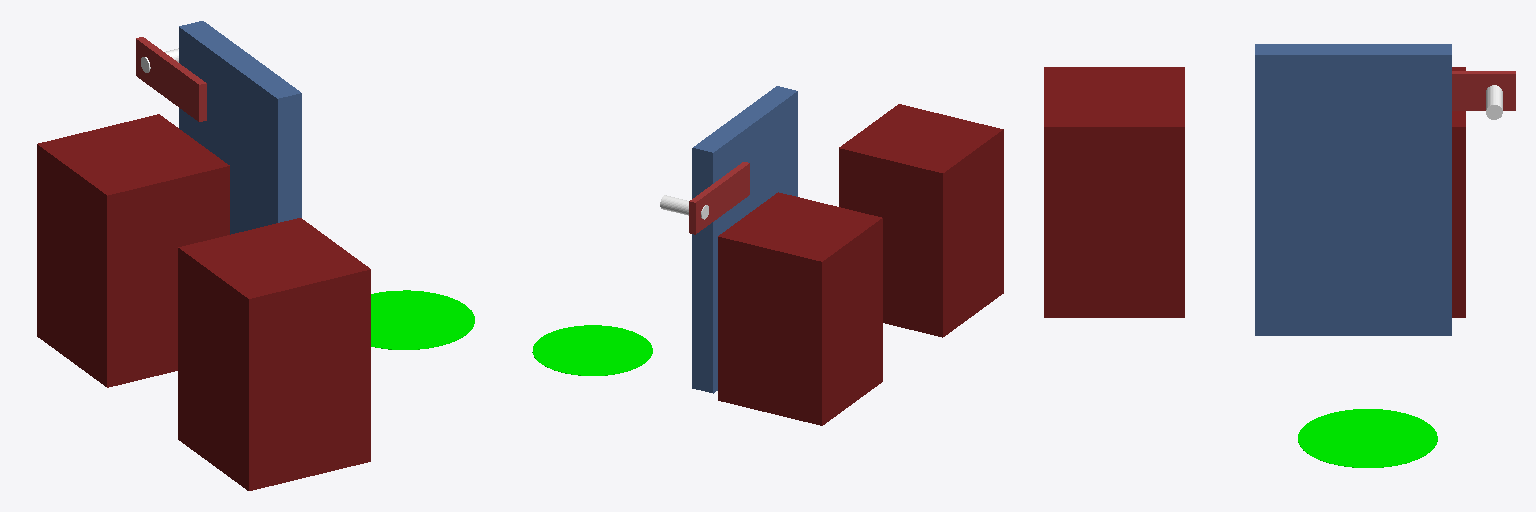
The robot description file, URDF, robot "room":
<robot name="room">
    <link name="base_link"/>

    <link name="room">
      <visual>
        <geometry>
          <mesh filename="[local-path]/rb_ws/robowflex/robowflex_dart/include/io/envs/room/meshes/room.dae" scale=" 0.4 0.4 0.3"/>
        </geometry>
        <origin rpy="0 0 0" xyz="0 0 0"/>
      <material name="">
        <color rgba="0.94901960784 0.94901960784 0.94901960784 1"/>
      </material>
      </visual>

      <collision>
        <geometry>
          <mesh filename="[local-path]/rb_ws/robowflex/robowflex_dart/include/io/envs/room/meshes/room.dae" scale=" 0.4 0.4 0.3"/>
        </geometry>
        <origin rpy="0 0 0" xyz="0 0 0"/>       
       </collision>
    </link>


        <link name="shelf">
      <visual>
        <geometry>
          <mesh filename="[local-path]/rb_ws/robowflex/robowflex_dart/include/io/envs/room/meshes/shelf.dae" scale="0.042 0.05 0.04"/>
        </geometry>
        <origin rpy="0 0 0" xyz="0 0 0"/>
      
      <material name="">
        <color rgba="0.729411 0.549019 0.388235 1"/>
      </material>

      </visual>
      <collision>
        <geometry>
          <mesh filename="[local-path]/rb_ws/robowflex/robowflex_dart/include/io/envs/room/meshes/shelf.dae" scale="0.042 0.05 0.04"/>
        </geometry>
        <origin rpy="0 0 0" xyz="0 0 0"/>       
       </collision>
    </link>


    <link name="desk">
      <visual>
        <geometry>
          <mesh filename="[local-path]/rb_ws/robowflex/robowflex_dart/include/io/envs/room/meshes/desk2.dae" scale="0.01 0.01 0.020"/>
        </geometry>
        <origin rpy="0 0 0" xyz="0 0 0"/>
      
    <material name="">
        <color rgba="0.729411 0.549019 0.388235 1"/>
      </material>

      </visual>
      <collision>
        <geometry>
          <mesh filename="[local-path]/rb_ws/robowflex/robowflex_dart/include/io/envs/room/meshes/desk2.dae" scale="0.01 0.01 0.020"/>
        </geometry>
        <origin rpy="0 0 0" xyz="0 0 0"/>       
       </collision>
    </link>



    <link name="sofa">
      <visual>
        <geometry>
          <mesh filename="[local-path]/rb_ws/robowflex/robowflex_dart/include/io/envs/room/meshes/sofa.dae" scale="0.7 0.7 1"/>
        </geometry>
        <origin rpy="0 0 0" xyz="0 0 0"/>
      
      <material name="">
        <color rgba="0.70196 0.8 1 1"/>
      </material>

      </visual>
      <collision>
        <geometry>
          <mesh filename="[local-path]/rb_ws/robowflex/robowflex_dart/include/io/envs/room/meshes/sofa.dae" scale="0.7 0.7 1"/>
        </geometry>
        <origin rpy="0 0 0" xyz="0 0 0"/>       
       </collision>
    </link>

    <link name="link_0_joint_0">
      <visual>
        <geometry>
          <box size="0.5 0.5 0.75"/>
        </geometry>
        <origin rpy="0 0 0" xyz="0 0 0"/>
          <material name="">
          <color rgba="0.541176 0.156862 0.156862 1.0"/>
      </material>
      </visual>
      <collision>
        <geometry>
          <box size="0.5 0.5 0.75"/>
        </geometry>
        <origin rpy="0 0 0" xyz="0 0 0"/>      
       </collision>
    </link>


    <link name="link_1_joint_0">
      <visual>
        <geometry>
          <box size="0.5 0.5 0.75"/>
        </geometry>
        <origin rpy="0 0 0" xyz="0 0 0"/>
       <material name="">
          <color rgba="0.541176 0.156862 0.156862 1.0"/>
      </material>
      </visual>
      <collision>
        <geometry>
          <box size="0.5 0.5 0.75"/>
        </geometry>
        <origin rpy="0 0 0" xyz="0 0 0"/>      
       </collision>
    </link>

     <link name="link_2_joint_0">
      <visual>
        <geometry>
          <box size="0.1 0.7 1.1"/>
        </geometry>
        <origin rpy="0 0 0" xyz="0.0 0.35 0"/>
        <material name="">
          <color rgba="0.349019 0.470588 0.650980 1.0"/>
      </material>
      </visual>
      <collision>
        <geometry>
          <box size="0.1 0.7 1.1"/>
        </geometry>
        <origin rpy="0 0 0" xyz="0.0 0.35 0"/>     
       </collision>
    </link>


     <link name="lock_part">
      <visual>
        <geometry>
          <cylinder radius="0.03" length="0.2"/>
        </geometry>
             <material name="">
          <color rgba="1 1 1 1.0"/>
      </material>
      </visual>
    </link>


     <link name="link_3_joint_0">
      <visual>
        <geometry>
          <box size="0.03 0.45 0.146"/>
        </geometry>
      <origin rpy="0 0 0" xyz="0 -0.15 0"/>
             <material name="">
          <color rgba="0.6901 0.2509 0.2509 1.0"/>
      </material>
      </visual>
      <collision>       
        <geometry>
          <box size="0.03 0.45 0.146"/>
        </geometry>
      <origin rpy="0 0 0" xyz="0 -0.15 0"/>
       </collision>
    </link>


<link name="cube1_y_axis"/>
<link name="cube2_y_axis"/>


  <joint name="link_0_joint_0" type="prismatic">
      <origin rpy="0 0 0" xyz="0.95 0.1 0.375"/>
      <parent link="base_link"/>
      <child link="cube1_y_axis"/>
      <axis xyz="0 1 0"/>
      <limit lower="-1.10" upper="0.96" effort="0.05" velocity="1.57"/>
  </joint>


  <joint name="link_0_joint_1" type="prismatic">
      <origin rpy="0 0 0" xyz="0 0 0"/>
      <parent link="cube1_y_axis"/>
      <child link="link_0_joint_0"/>
      <axis xyz="1 0 0"/>
      <limit lower="-1.5" upper="0.05" effort="0.05" velocity="1.57"/>
  </joint>



  <joint name="link_1_joint_0" type="prismatic">
      <origin rpy="0 0 0" xyz="0.95 -0.9 0.375"/>
      <parent link="base_link"/>
      <child link="cube2_y_axis"/>
      <axis xyz="0 1 0"/>
      <limit lower="-0.1" upper="1.90" effort="0.05" velocity="1.57"/>
  </joint>


  <joint name="link_1_joint_1" type="prismatic">
      <origin rpy="0 0 0" xyz="0 0 0"/>
      <parent link="cube2_y_axis"/>
      <child link="link_1_joint_0"/>
      <axis xyz="1 0 0"/>
      <limit lower="-1.5" upper="0.05" effort="0.05" velocity="1.57"/>
  </joint>


  <joint name="link_2_joint_0" type="revolute">
      <origin rpy="0 0 0" xyz="1.30 -0.4 0.55"/>
      <parent link="base_link"/>
      <child link="link_2_joint_0"/>
      <axis xyz="0 0 1"/>
      <limit lower="0" upper="1.57" effort="0.05" velocity="1.57"/>
  </joint>



 <joint name="link_3_joint_0" type="revolute">
      <origin rpy="0 0 0" xyz="1.22 0.45 0.90"/>
      <parent link="base_link"/>
      <child link="link_3_joint_0"/>
      <axis xyz="1 0 0"/>
      <limit lower="0" upper="1.57" effort="0.05" velocity="1.57"/>
  </joint>


  <joint name="desk_joint" type="fixed">
      <origin rpy="0 0 1.57" xyz="0.30 0.6 0.0"/>
      <parent link="base_link"/>
      <child link="desk"/>
      <axis xyz="0 0 1"/>
  </joint>


<joint name="room_j" type="fixed">
    <origin rpy="0 0 -1.57" xyz="0 0 0.0"/>
    <parent link="base_link"/>
    <child link="room"/>
    <axis xyz="0 1 0"/>
  </joint>

<joint name="shelf_j" type="fixed">
    <origin rpy="0 0 -1.57" xyz="1.1 0.9 0.0"/>
    <parent link="base_link"/>
    <child link="shelf"/>
    <axis xyz="0 1 0"/>
  </joint>


  <joint name="lock_part_j" type="fixed">
    <origin rpy="0 1.57 0" xyz="1.3 0.45 0.9"/>
      <parent link="base_link"/>
      <child link="lock_part"/>
      <axis xyz="0.0 0.0 1"/>
  </joint>

<joint name="sofa_joint" type="fixed">
        <origin rpy="0 0 1.57" xyz="-0.90 -0.2 0.0"/>
        <parent link="base_link"/>
        <child link="sofa"/>
        <axis xyz="0 0 1"/>
        <limit lower="-1.57" upper="1.57" effort="0.05" velocity="1.57"/>
    </joint>

<link name="goal">
  <visual>
         <origin xyz="0 0 -0.1" rpy="0 0 0"/>
        <geometry>
          <cylinder radius="0.25" length="0.001"/>
        </geometry>
        <material name="">
          <color rgba="0 1 0 1.0"/>
        </material>
      </visual>
</link>

<joint name="goal" type="fixed">
  <origin rpy="0 0 0" xyz="2.0 0 0.0"/>
  <parent link="base_link"/>
    <child link="goal"/>
</joint>



</robot>

--- What the picture shows (computed from the rendered views, not written in the file) ---
The picture shows the robot from 3 angles, left to right: view 1: azimuth 30°, elevation 25°; view 2: azimuth 150°, elevation 25°; view 3: azimuth 270°, elevation 25°; orthographic projection.
Model room with 13 links and 12 joints (2 revolute, 4 prismatic, 6 fixed), rooted at base_link, posed every joint at zero.
Visible links, largest first — view 1: link_1_joint_0, link_0_joint_0, link_2_joint_0, goal, link_3_joint_0; view 2: link_0_joint_0, link_1_joint_0, link_2_joint_0, goal, link_3_joint_0; view 3: link_2_joint_0, link_1_joint_0, goal, link_0_joint_0, link_3_joint_0, lock_part.
Link boxes in pixels (left/top/right/bottom): link_1_joint_0: left=178, top=218, right=370, bottom=490; link_0_joint_0: left=37, top=114, right=229, bottom=387; link_2_joint_0: left=179, top=21, right=301, bottom=234; goal: left=371, top=290, right=474, bottom=349; link_3_joint_0: left=136, top=37, right=206, bottom=121; link_0_joint_0: left=718, top=192, right=882, bottom=425; link_1_joint_0: left=839, top=104, right=1003, bottom=337; link_2_joint_0: left=692, top=86, right=797, bottom=393; goal: left=532, top=325, right=652, bottom=375; link_3_joint_0: left=689, top=162, right=749, bottom=234; link_2_joint_0: left=1255, top=44, right=1451, bottom=335; link_1_joint_0: left=1044, top=67, right=1184, bottom=317; goal: left=1298, top=409, right=1437, bottom=467; link_0_joint_0: left=1452, top=67, right=1465, bottom=317; link_3_joint_0: left=1452, top=71, right=1515, bottom=110; lock_part: left=1486, top=85, right=1502, bottom=119.
Bounding box of the posed robot: 1.55 × 1.68 × 1.2 m (x, y, z).
Geometry: only primitive shapes (box / cylinder / sphere) drawn; not drawn: 4 mesh visuals (reference in a form the renderer does not follow).